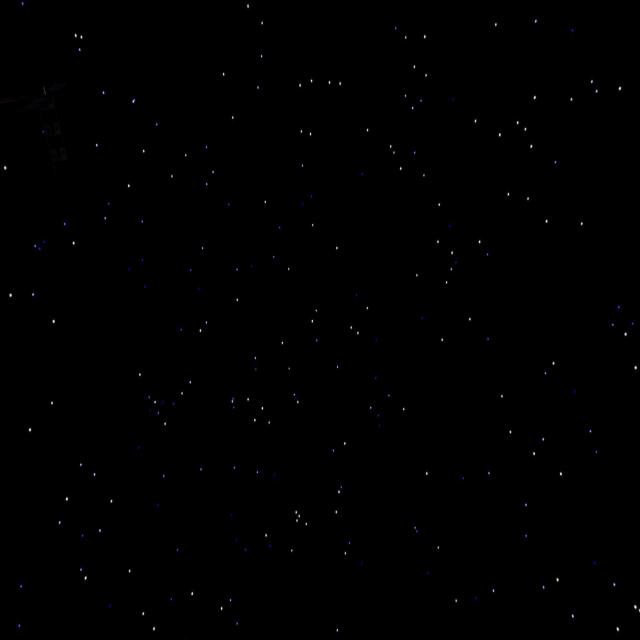medium_debris: (0, 56, 95, 165)
